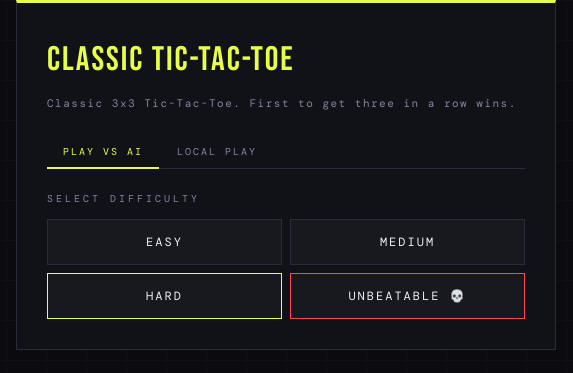
it: GameSetup › switches to Local Play tab
Click the button "Local Play".
click(217, 153)  # box [161,136,273,169]
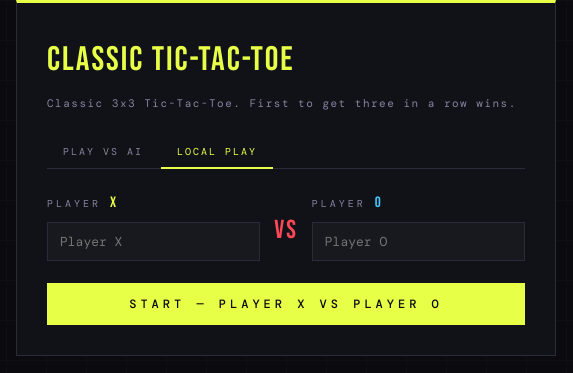
Expected: the field with placeholder "Player X" is shown, [47,222,260,261]
Expected: the field with placeholder "Player O" is shown, [312,222,525,261]
